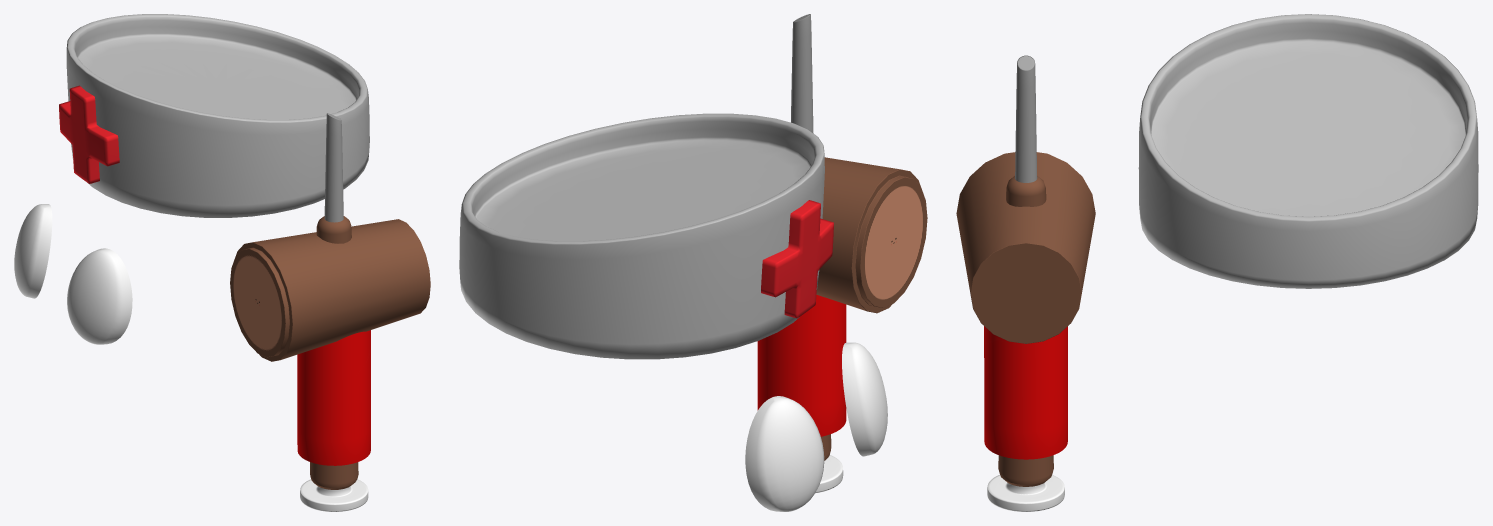
The model's file is MedicRigids.fbx.
The picture shows the model from 3 angles, left to right: view 1: azimuth 30°, elevation 25°; view 2: azimuth 150°, elevation 25°; view 3: azimuth 270°, elevation 25°; orthographic projection. The views are drawn at different scales.
Parts seen in each view (by area): view 1: MedicHat, Hammer, Syringe, polySurface3, polySurface1; view 2: MedicHat, Hammer, Syringe, polySurface1, polySurface3; view 3: MedicHat, Hammer, Syringe.
Boxes of the visible parts, <box> form: MedicHat: <box>59,14,369,217</box>; Hammer: <box>230,216,430,489</box>; Syringe: <box>297,113,370,511</box>; polySurface3: <box>67,248,132,344</box>; polySurface1: <box>14,204,52,298</box>; MedicHat: <box>459,113,833,359</box>; Hammer: <box>816,157,927,460</box>; Syringe: <box>757,14,846,493</box>; polySurface1: <box>745,396,824,511</box>; polySurface3: <box>842,342,887,456</box>; MedicHat: <box>1138,14,1478,288</box>; Hammer: <box>956,152,1095,486</box>; Syringe: <box>984,55,1067,511</box>.
Bounding box in the file's own units: 7.19 × 8.71 × 9.44.
